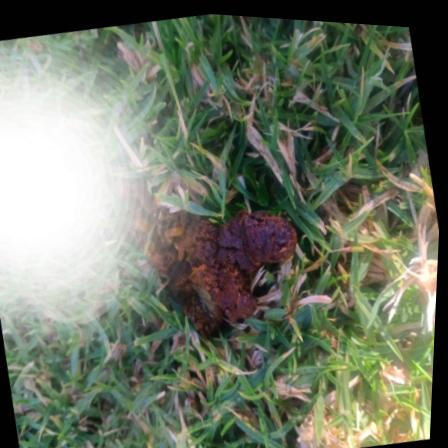dog-poop: (134, 178, 308, 348)
